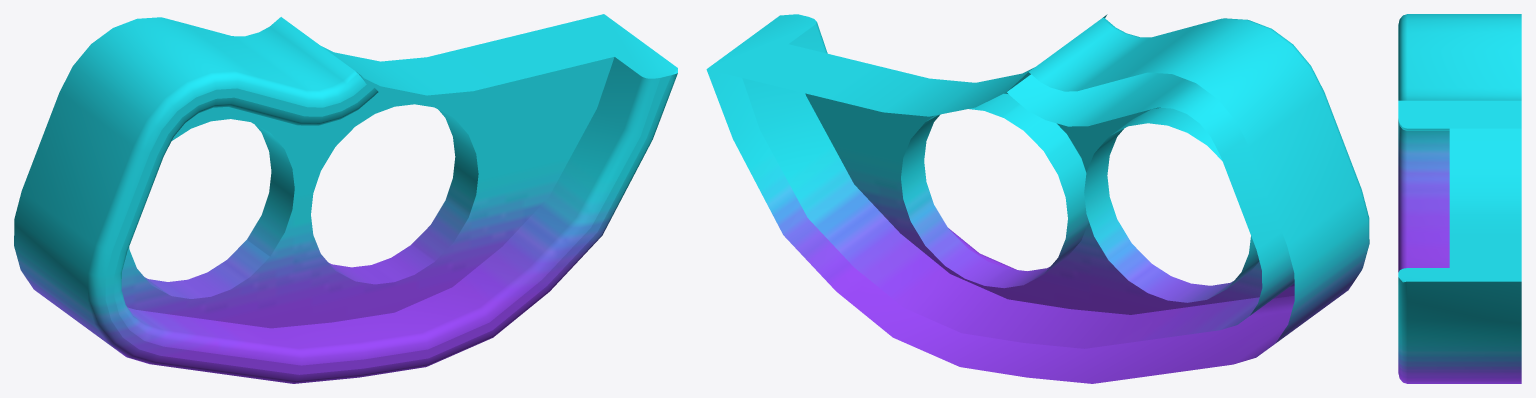
The model's file is Amongus02_Cut_007_0.FBX.
The picture shows the model from 3 angles, left to right: view 1: azimuth 30°, elevation 25°; view 2: azimuth 150°, elevation 25°; view 3: azimuth 270°, elevation 25°; orthographic projection. The views are drawn at different scales.
Visible parts, largest first — view 1: Amongus02_Cut_007_0; view 2: Amongus02_Cut_007_0; view 3: Amongus02_Cut_007_0.
Boxes of the visible parts, x1,y1,x2,y2 form: Amongus02_Cut_007_0: [14, 14, 677, 383]; Amongus02_Cut_007_0: [706, 14, 1369, 383]; Amongus02_Cut_007_0: [1398, 14, 1521, 383].
Bounding box in the file's own units: 2.47 × 0.5757 × 1.38.
